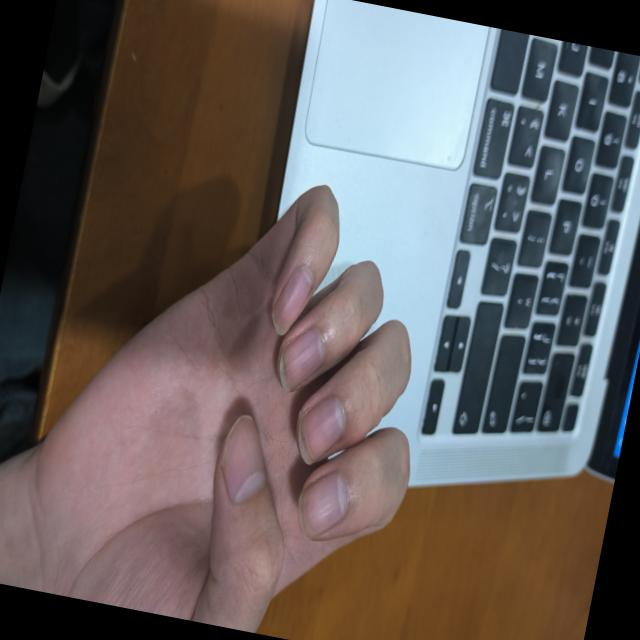Nail: (221, 415, 264, 504), (297, 396, 343, 465), (297, 473, 345, 538), (272, 264, 313, 336), (279, 329, 323, 395)
